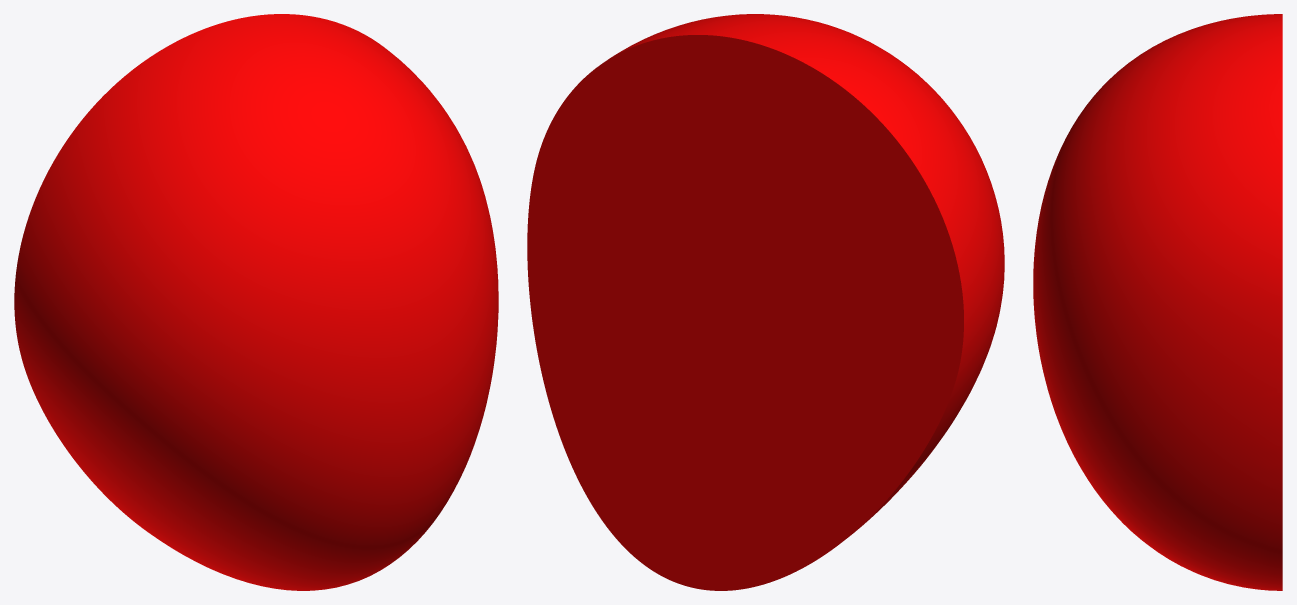
Rendered from PK_Balloon.gltf.
3 renders of one model, left to right at view 1: azimuth 30°, elevation 25°; view 2: azimuth 150°, elevation 25°; view 3: azimuth 270°, elevation 25°, orthographic. The views are drawn at different scales.
Bounding box in the file's own units: 0.08 × 0.098 × 0.0427.
